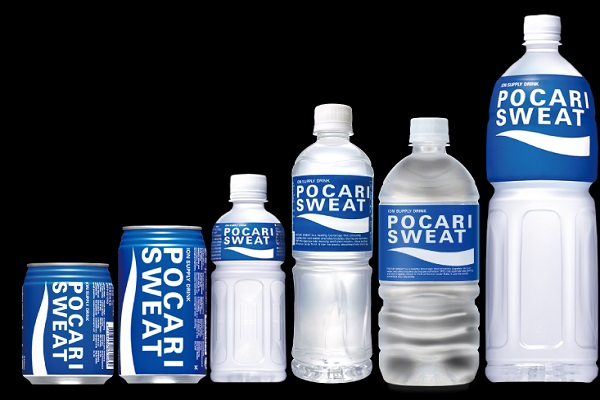POCARI SWEAT: (489, 16, 599, 388), (380, 119, 481, 388), (291, 106, 373, 385), (210, 176, 286, 382)
